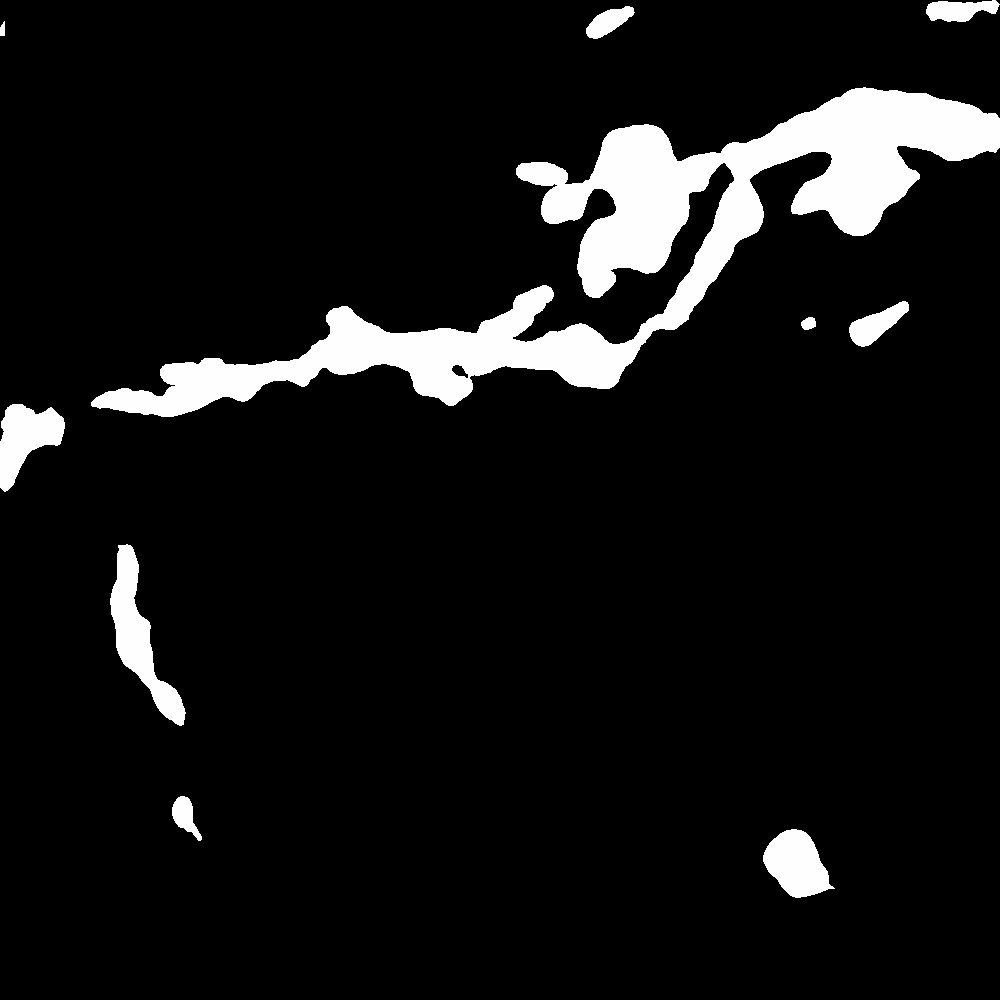illegal: (602, 135, 756, 326), (750, 90, 1000, 177), (96, 524, 185, 725), (420, 318, 621, 400), (797, 164, 905, 243), (139, 358, 266, 418), (1, 379, 67, 488), (310, 309, 416, 371), (769, 831, 860, 903), (548, 182, 600, 263), (175, 769, 215, 862)
